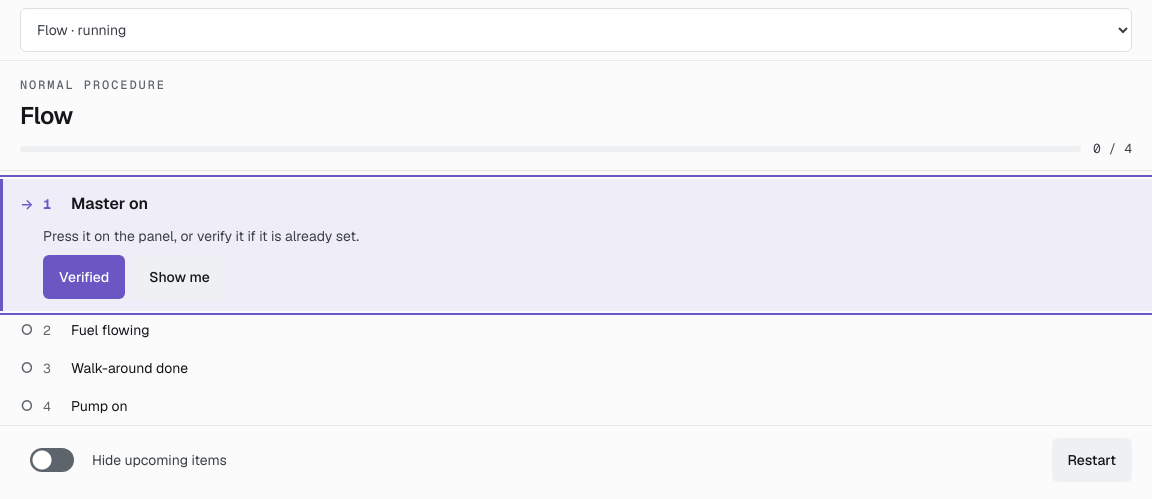
it: Practice recall › keeps upcoming and current item text out of the DOM and done items readable
Click the checkbox labelled "Hide upcoming items" at (52, 460), box [20,438,84,482]
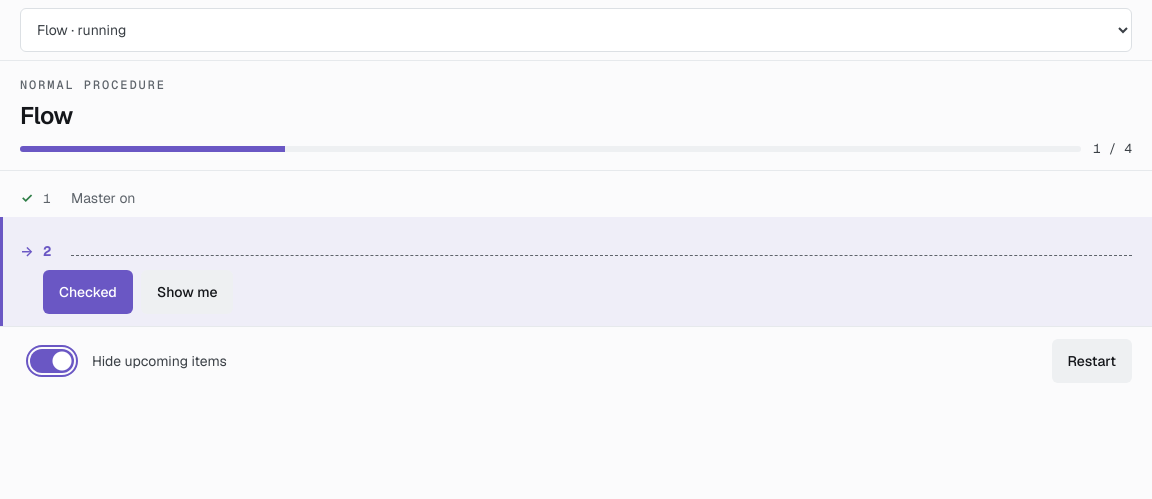
Check: the text "Fuel flowing" is gone
Check: the text "Walk-around done" is gone
Check: the text "Pump on" is gone
